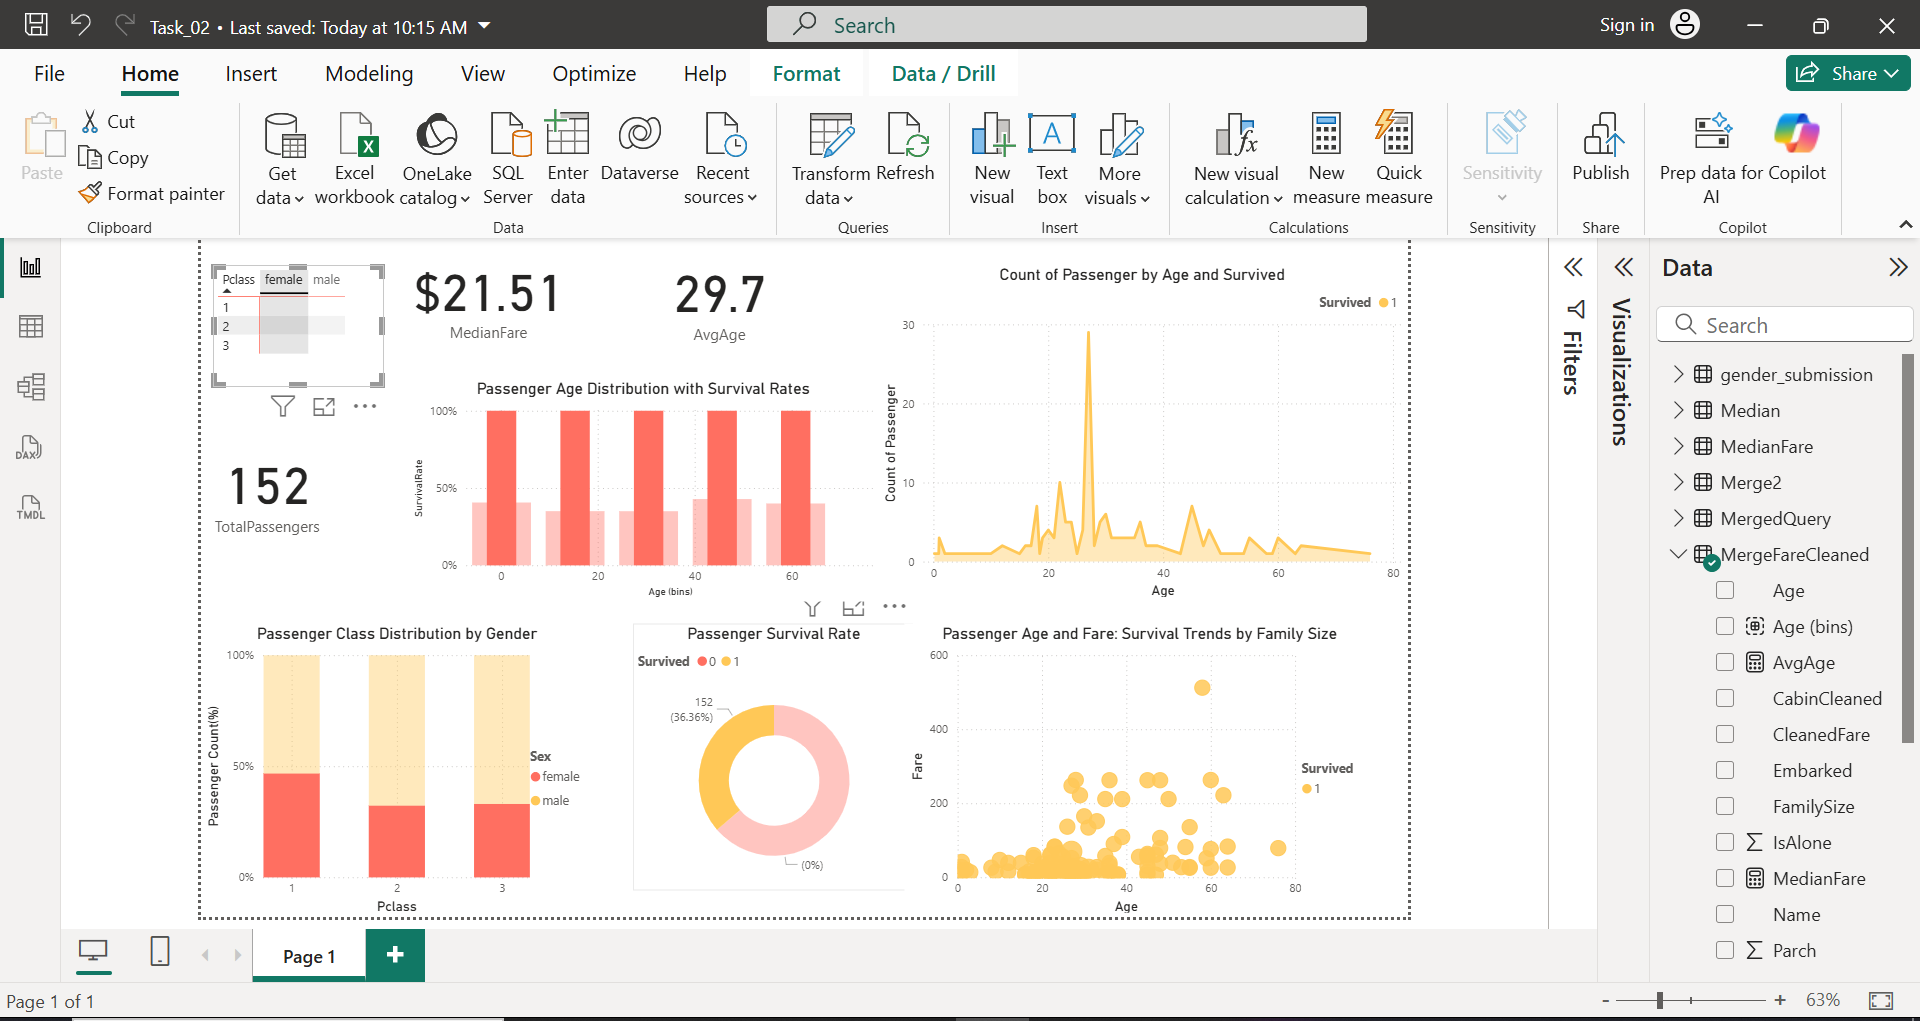

Layout of this report page (visuals, bound fields, positions):
{"tool":"powerbi","page":{"name":"Page 1","canvas":[1280,720],"ordinal":0},"visuals":[{"type":"donutChart","title":"Passenger Survival Rate","fields":{"Category":["MergeFareCleaned.Survived"],"Y":["CountNonNull(MergeFareCleaned.PassengerId)"]},"box":[457.3,408.2,298.6,283.5],"z":0},{"type":"hundredPercentStackedColumnChart","title":"Passenger Class Distribution by Gender","fields":{"Category":["MergeFareCleaned.Pclass"],"Y":["CountNonNull(MergeFareCleaned.PassengerId)"],"Series":["MergeFareCleaned.Sex"]},"box":[0,408.2,415.8,311.8],"z":1000},{"type":"card","fields":{"Values":["MergeFareCleaned.TotalPassengers"]},"box":[0,160.6,139.8,211.7],"z":2000},{"type":"card","fields":{"Values":["MergeFareCleaned.AVGAgAvgAge"]},"box":[434.6,3.8,230.6,119.1],"z":3000},{"type":"clusteredColumnChart","title":"Passenger Age Distribution with Survival Rates","fields":{"Y":["MergeFareCleaned.SurvivalRate"],"Category":["MergeFareCleaned.AgeCleaned (bins)"]},"box":[219.2,149.3,498.9,236.2],"z":4000},{"type":"scatterChart","title":"Passenger Age and Fare: Survival Trends by Family Size","fields":{"X":["MergeFareCleaned.Age"],"Y":["MergeFareCleaned.CleanedFare"],"Series":["MergeFareCleaned.Survived"],"Size":["CountNonNull(MergeFareCleaned.FamilySize)"]},"box":[746.5,408.2,498.9,311.8],"z":5000},{"type":"pivotTable","fields":{"Columns":["MergeFareCleaned.Sex"],"Rows":["MergeFareCleaned.Pclass"]},"box":[13.2,28.3,181.4,128.5],"z":6000},{"type":"stackedAreaChart","title":"Count of Passenger by Age and Survived","fields":{"Category":["MergeFareCleaned.Age"],"Series":["MergeFareCleaned.Survived"],"Y":["CountNonNull(MergeFareCleaned.PassengerId)"]},"box":[718.1,28.3,561.3,357.2],"z":7000},{"type":"card","fields":{"Values":["MergeFareCleaned.MedianFare"]},"box":[194.6,0,221.1,122.8],"z":8000}]}

Visuals, with their boxes on the page's 1280x720 design canvas (x1, y1, x2, y2). These are canvas units, not pixel positions in the 1920x1021 screenshot, which may show the page scaled, cropped or inside an application window:
"Passenger Survival Rate" donutChart: [left=457, top=408, right=756, bottom=692]
"Passenger Class Distribution by Gender" hundredPercentStackedColumnChart: [left=0, top=408, right=416, bottom=720]
card - MergeFareCleaned.TotalPassengers: [left=0, top=161, right=140, bottom=372]
card - MergeFareCleaned.AVGAgAvgAge: [left=435, top=4, right=665, bottom=123]
"Passenger Age Distribution with Survival Rates" clusteredColumnChart: [left=219, top=149, right=718, bottom=386]
"Passenger Age and Fare: Survival Trends by Family Size" scatterChart: [left=746, top=408, right=1245, bottom=720]
pivotTable - MergeFareCleaned.Sex x MergeFareCleaned.Pclass: [left=13, top=28, right=195, bottom=157]
"Count of Passenger by Age and Survived" stackedAreaChart: [left=718, top=28, right=1279, bottom=386]
card - MergeFareCleaned.MedianFare: [left=195, top=0, right=416, bottom=123]
